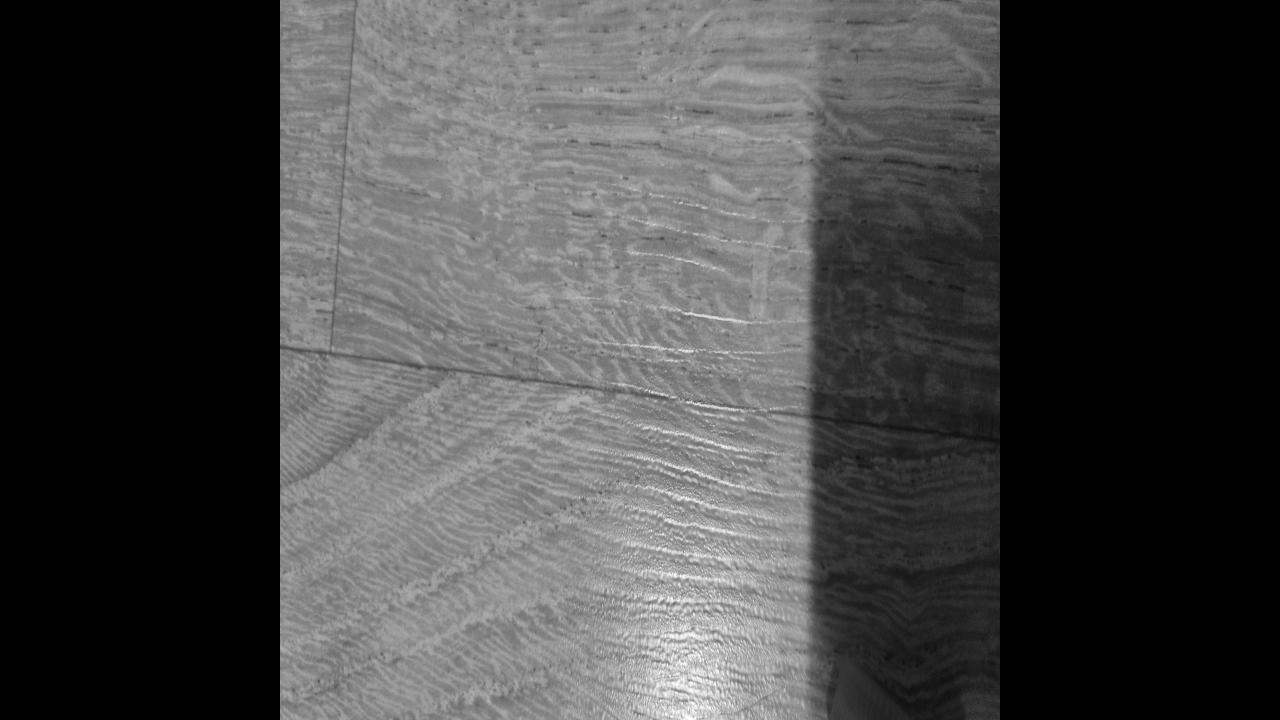bottle_cap: (829, 661, 985, 720)
